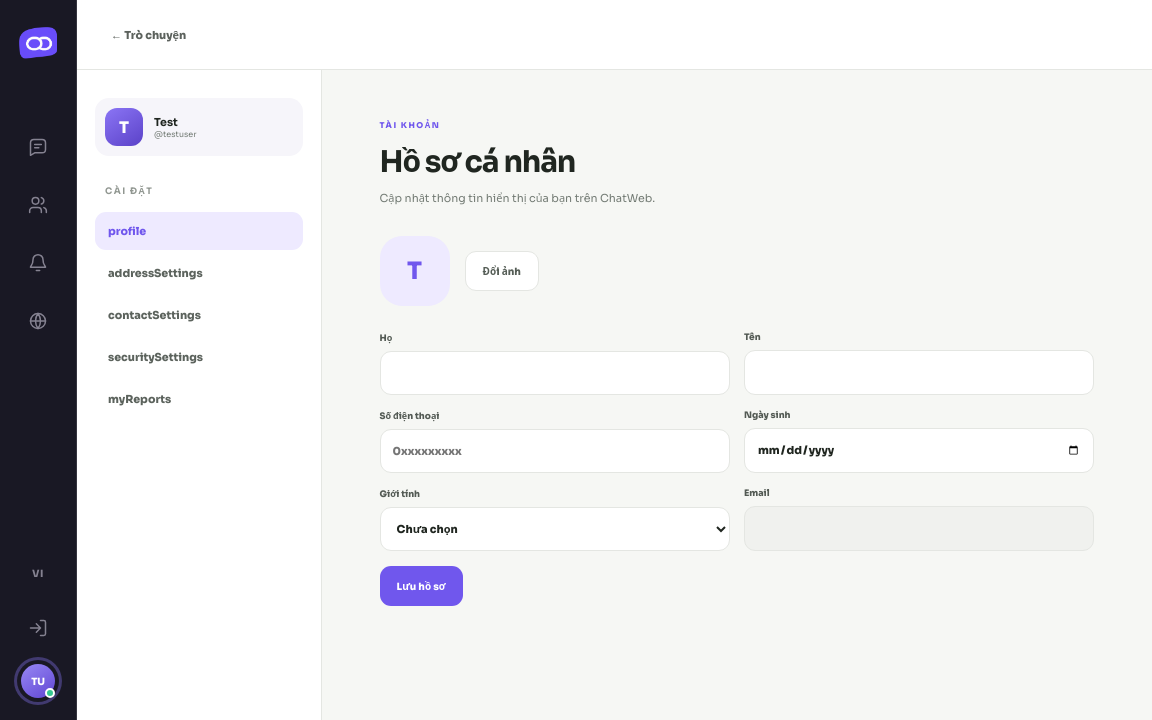
Scenario: SettingsPage Reports Tab › switches between settings tabs and syncs with URL
# Click reports tab in sidebar
Click the button "myReports": (199, 399) 95,380 -> 303,418
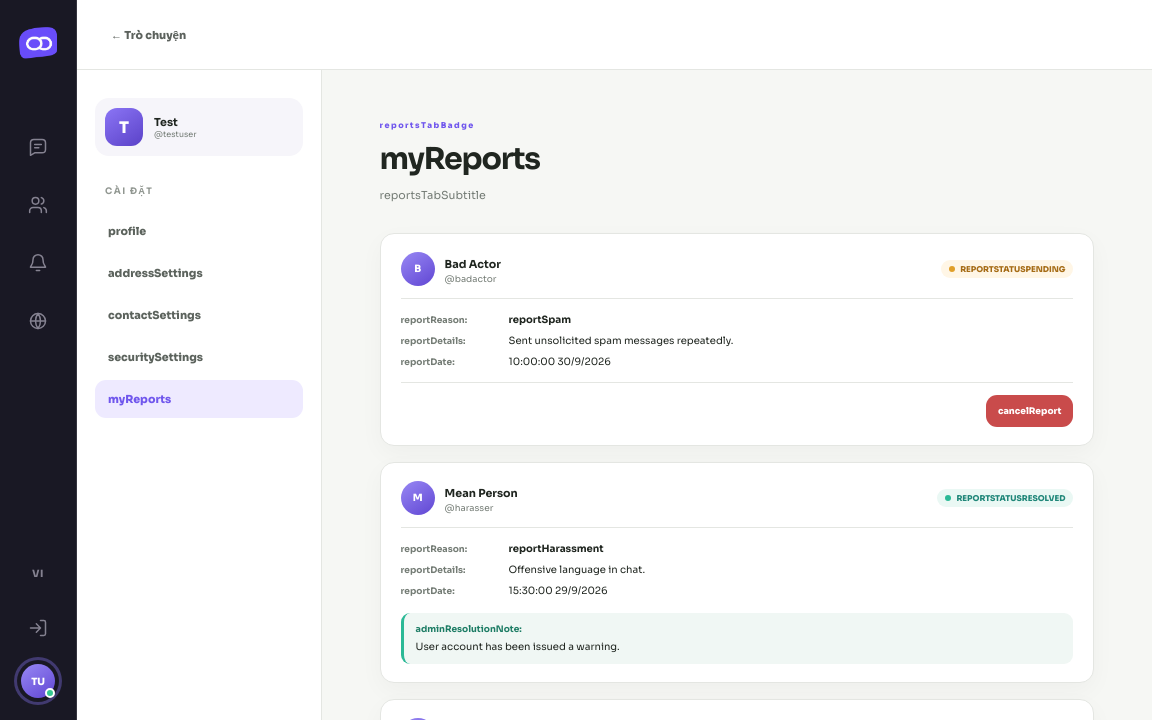
expect the text "Bad Actor" is shown: met, box 445,257 -> 501,271
